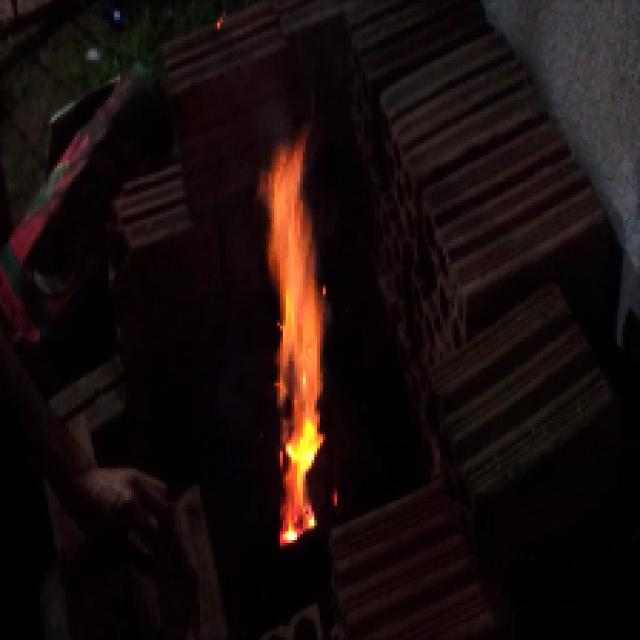fire: (240, 128, 328, 572)
